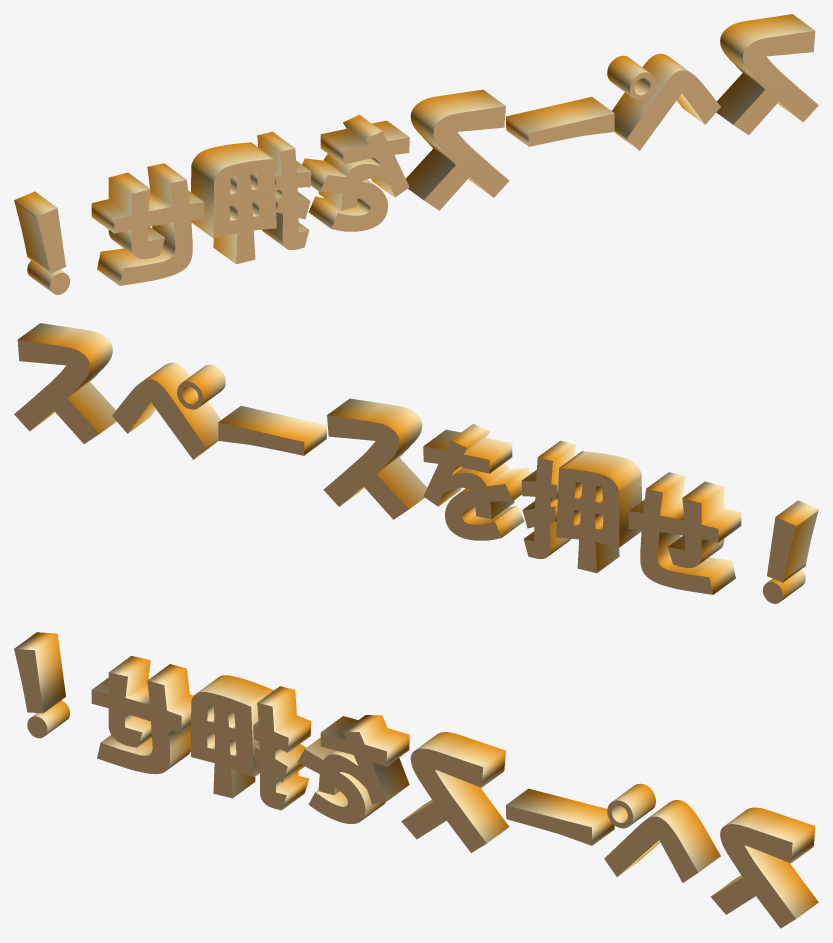
Rendered from spacestart.obj.
3 views of the same model, one above another, from view 1: azimuth 30°, elevation 25°; view 2: azimuth 150°, elevation 25°; view 3: azimuth 330°, elevation 25° (orthographic).
Visible parts, largest first — view 1: テキスト; view 2: テキスト; view 3: テキスト.
Part boxes in pixels (x1,y1,x2,y2): テキスト: (14, 14, 818, 294); テキスト: (14, 323, 818, 603); テキスト: (14, 632, 818, 928).
Bounding box in the file's own units: 7.56 × 0.9387 × 0.38.
